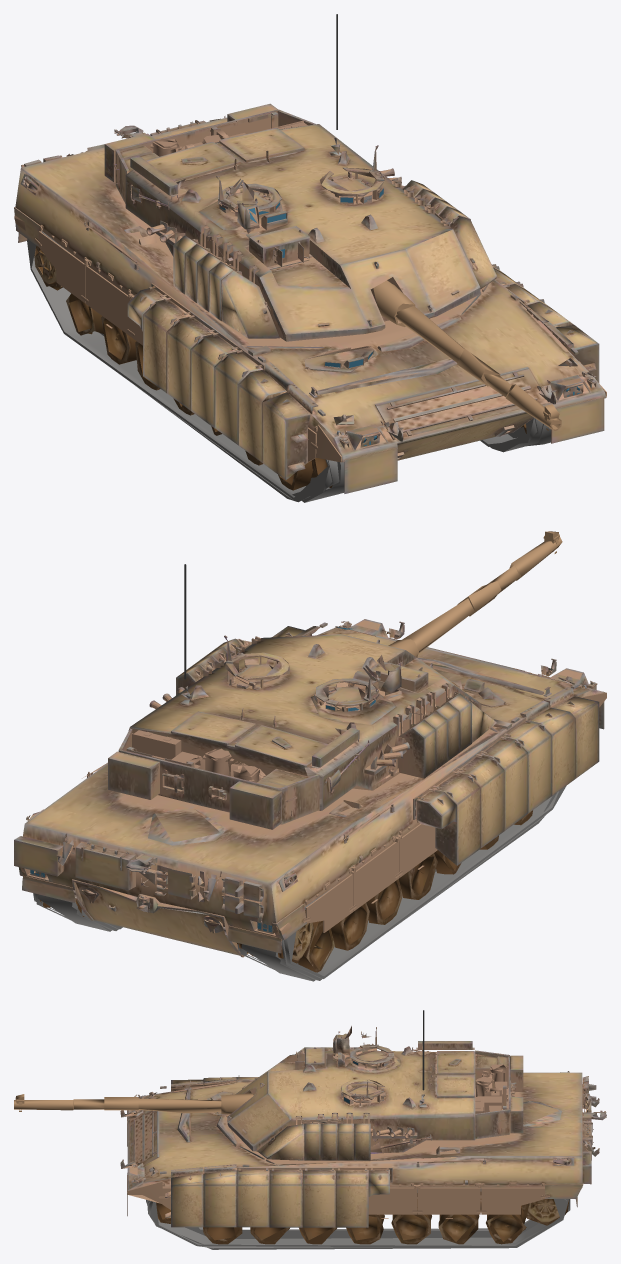
The model's file is tank.glb.
3 renders of one model, top to bottom at view 1: azimuth 30°, elevation 25°; view 2: azimuth 150°, elevation 25°; view 3: azimuth 270°, elevation 25°, orthographic. The views are drawn at different scales.
Visible parts, largest first — view 1: BODY, TUR, GUN; view 2: BODY, TUR, GUN; view 3: BODY, TUR, GUN.
Part boxes in pixels (x1,y1,x2,y2): BODY: (14, 116, 606, 502); TUR: (104, 14, 496, 341); GUN: (367, 280, 561, 430); BODY: (14, 619, 606, 981); TUR: (108, 564, 496, 829); GUN: (388, 531, 562, 668); BODY: (120, 1071, 606, 1249); TUR: (227, 1010, 523, 1160); GUN: (14, 1093, 253, 1120).
Bounding box in the file's own units: 4 × 3.97 × 9.5.
Materials: 5 (4 with a texture image).
